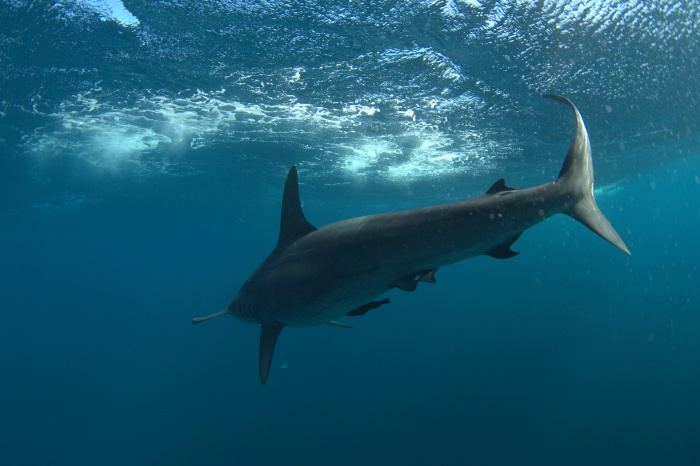Hammer: (157, 78, 646, 394)
